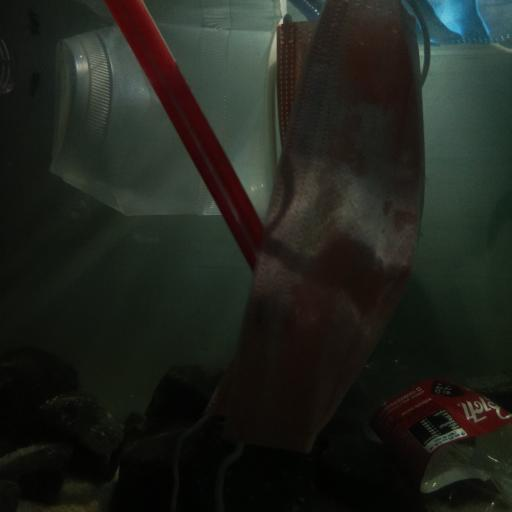mask: (190, 1, 426, 447), (411, 0, 512, 58)
plastic_bottle: (355, 347, 512, 512)
plastic_cup: (43, 22, 315, 218)
plastic_straw: (99, 0, 271, 261)
